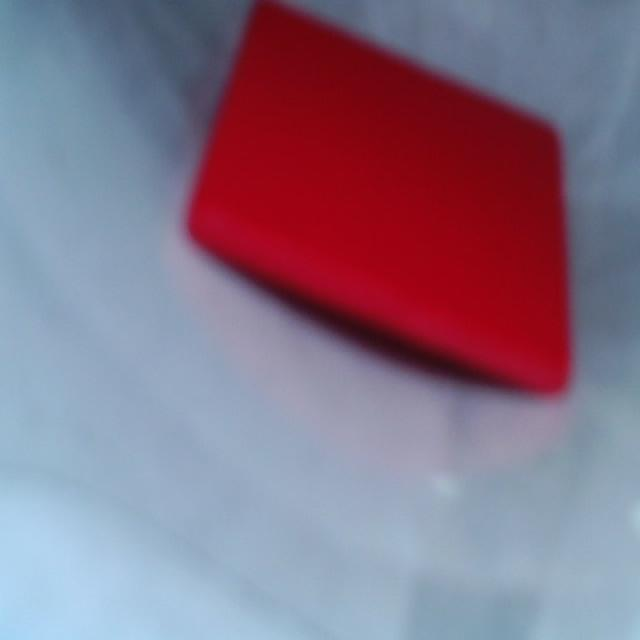square: (189, 3, 569, 389)
